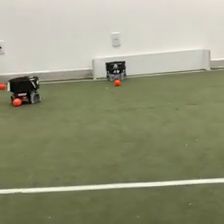ball: (11, 96, 23, 107), (113, 78, 121, 87), (1, 81, 6, 91)
goal: (90, 46, 213, 82)
robot: (7, 73, 42, 105), (104, 59, 128, 81)
